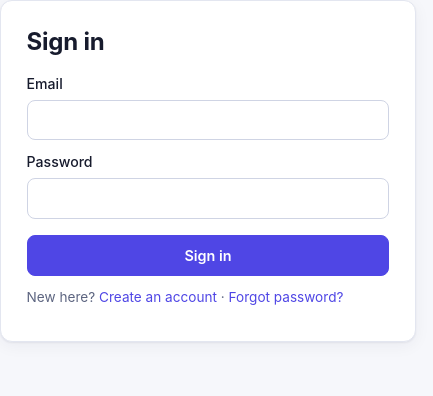
AuthPage sign in › shows the server's message and re-enables the form on failure
The image size is (433, 396).
Type "me@example.com" into the field labelled "Email" at (208, 120), box [27,100,389,140]
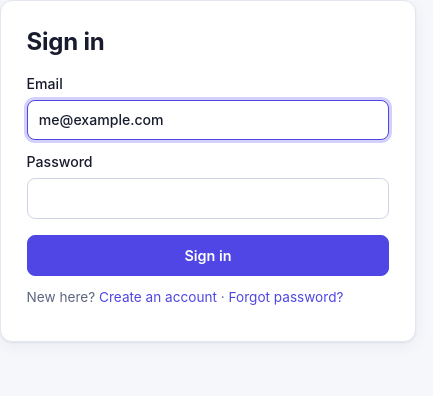
Type "wrong" into the password field labelled "Password" at (208, 198), box [27,178,389,219]
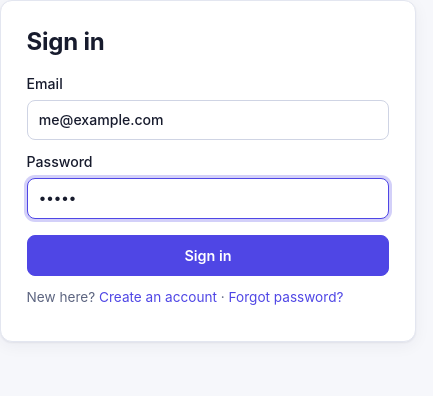
Click the button "Sign in" at (208, 256), box [27,235,389,276]
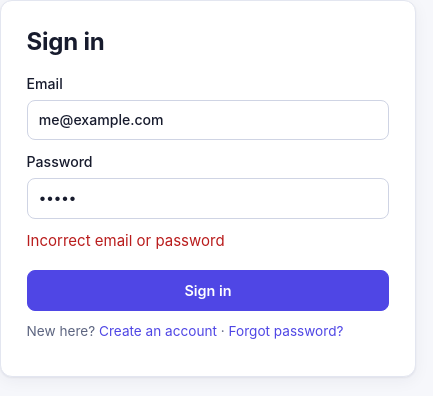
Expected: the button "Sign in" is enabled, [27,270,389,311]
Expected: the message reads "Incorrect email or password", [27,231,225,250]
